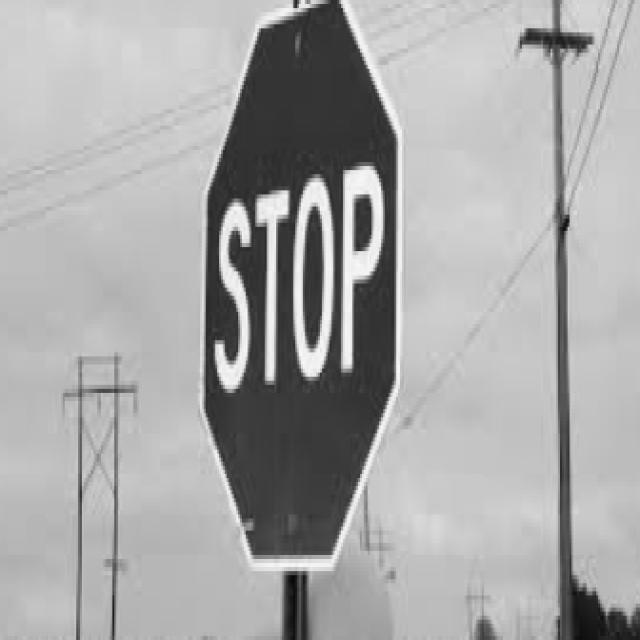Stop-signs: (200, 0, 404, 571)
